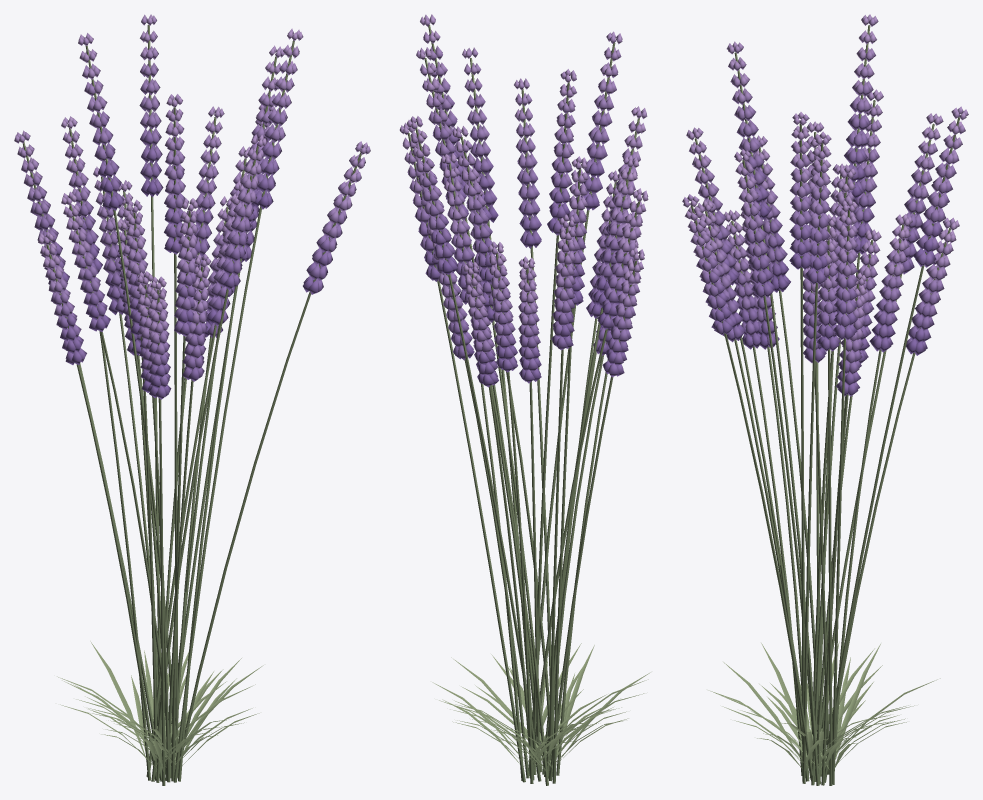
Rendered from lavender.glb.
The picture shows the model from 3 angles, left to right: view 1: azimuth 30°, elevation 25°; view 2: azimuth 150°, elevation 25°; view 3: azimuth 270°, elevation 25°; orthographic projection.
Size of the model in its own units: 0.213 by 0.5857 by 0.2061.
Materials: 1 (1 with a texture image).
